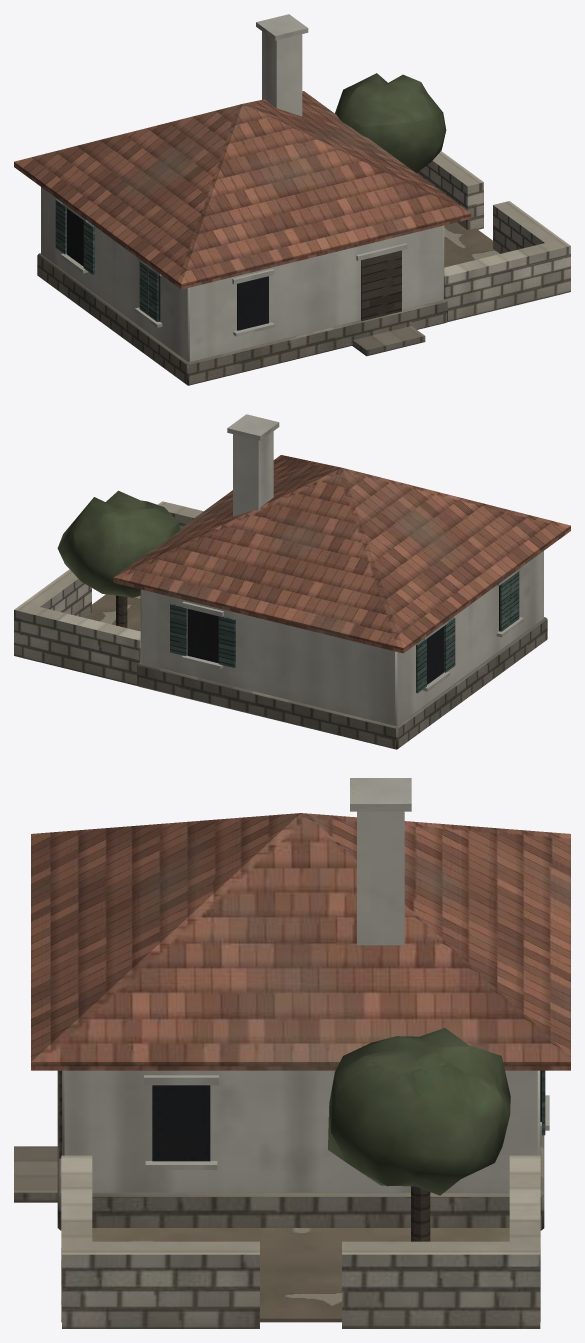
The model's file is a19_house_8.glb.
The picture shows the model from 3 angles, top to bottom: view 1: azimuth 30°, elevation 25°; view 2: azimuth 150°, elevation 25°; view 3: azimuth 270°, elevation 25°; orthographic projection. The views are drawn at different scales.
Parts seen in each view (by area): view 1: body; view 2: body; view 3: body.
Boxes of the visible parts, bbox=[...] form: body: bbox=[14, 14, 570, 385]; body: bbox=[14, 414, 570, 749]; body: bbox=[14, 778, 570, 1328].
Bounding box in the file's own units: 1 × 0.5766 × 0.7494.
Materials: 1 (1 with a texture image).
